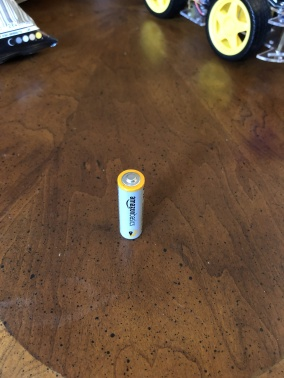battery: (115, 167, 147, 241)
